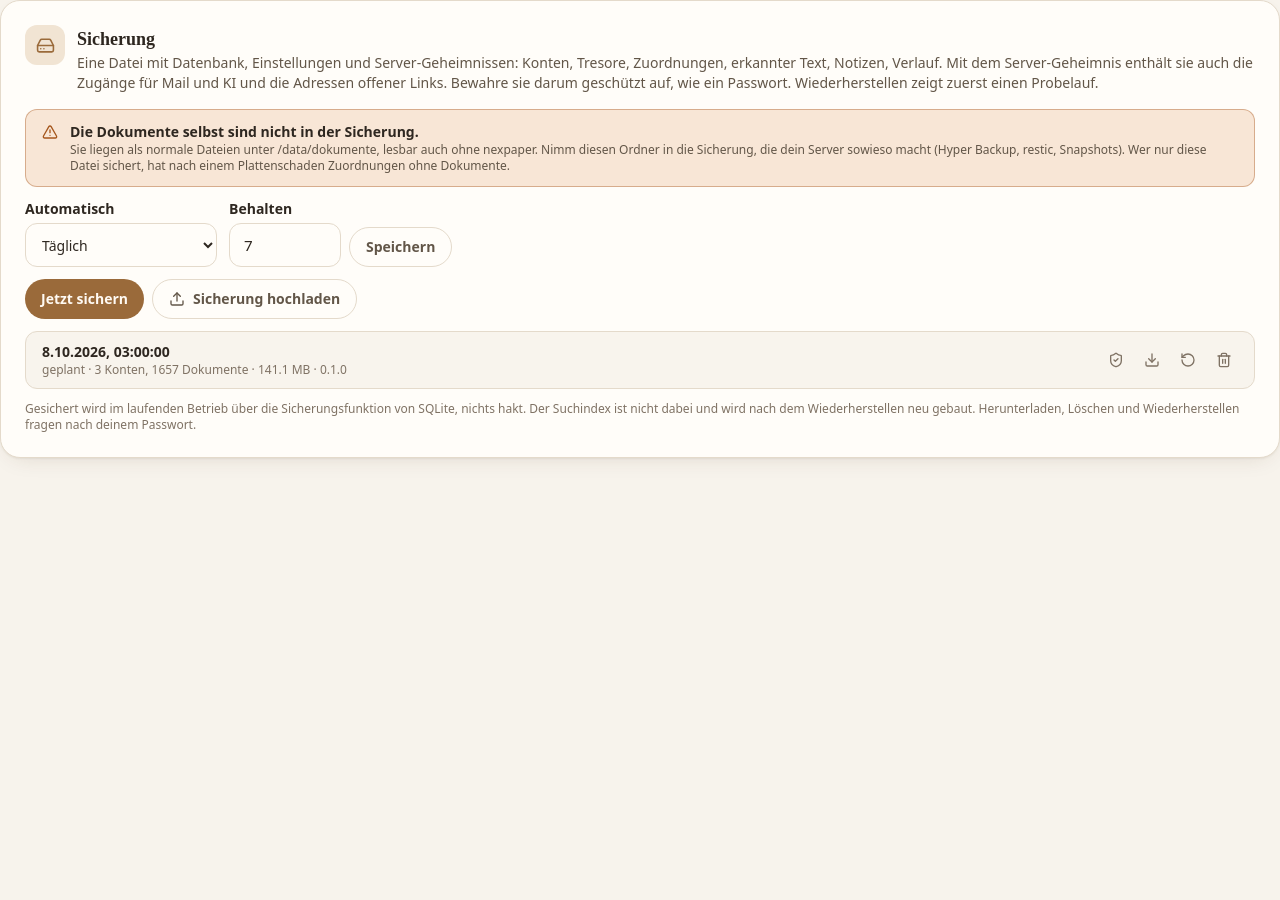
Test: the trial run before a restore › says what a restore brings back to life: devices, keys and links ended since the backup
The width and height of the screenshot is (1280, 900).
Click the button named "Prüfen": coordinates (1116, 360) 1102,346 -> 1130,374
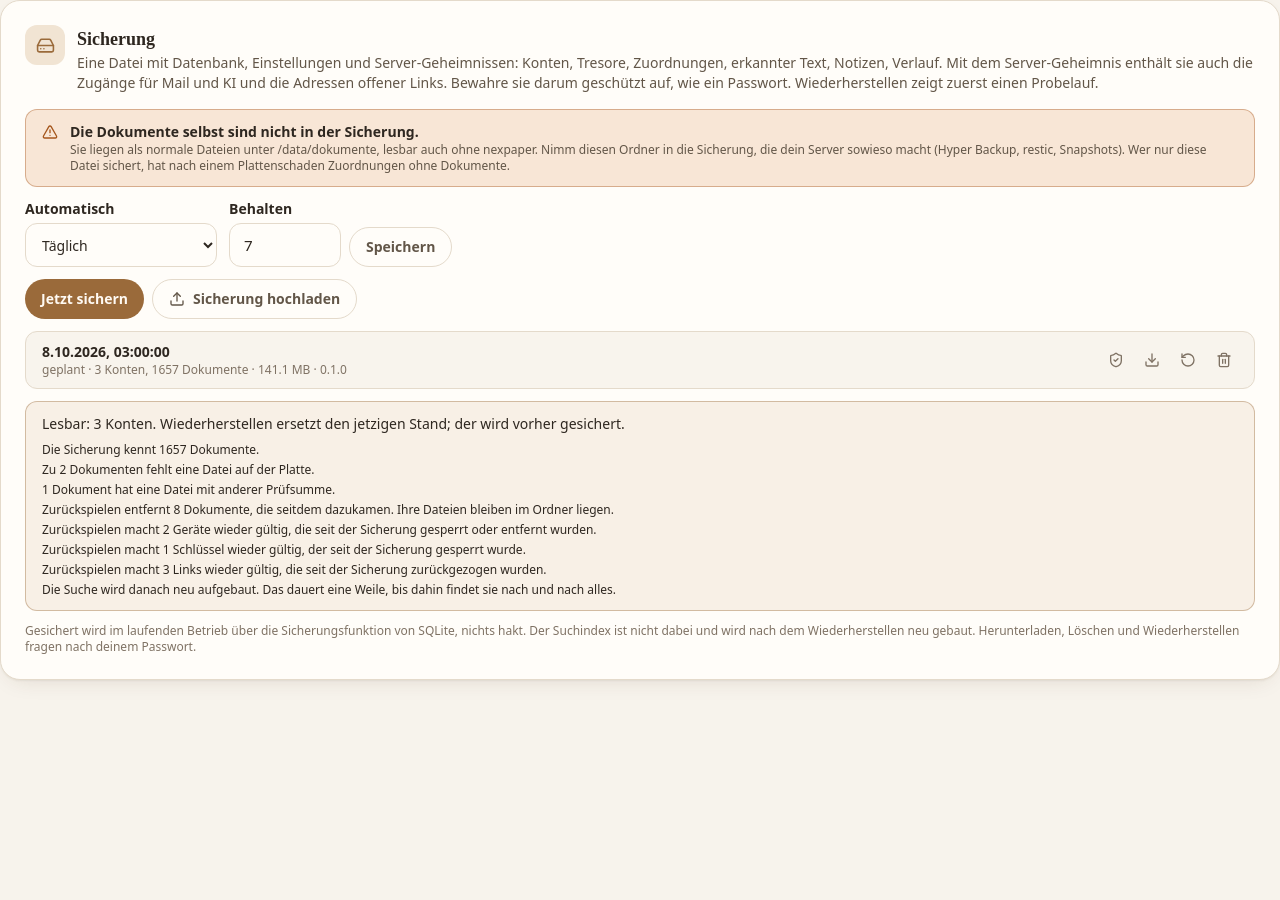
expect the list with test id "restore-preview" shows "Zurückspielen macht 2 Geräte wieder gültig, die seit der Sicherung gesperrt oder entfernt wurden.": met, box 42,521 -> 597,538
expect the list with test id "restore-preview" shows "Zurückspielen macht 1 Schlüssel wieder gültig, der seit der Sicherung gesperrt wurde.": met, box 42,541 -> 526,558
expect the list with test id "restore-preview" shows "Zurückspielen macht 3 Links wieder gültig, die seit der Sicherung zurückgezogen wurden.": met, box 42,561 -> 546,578
